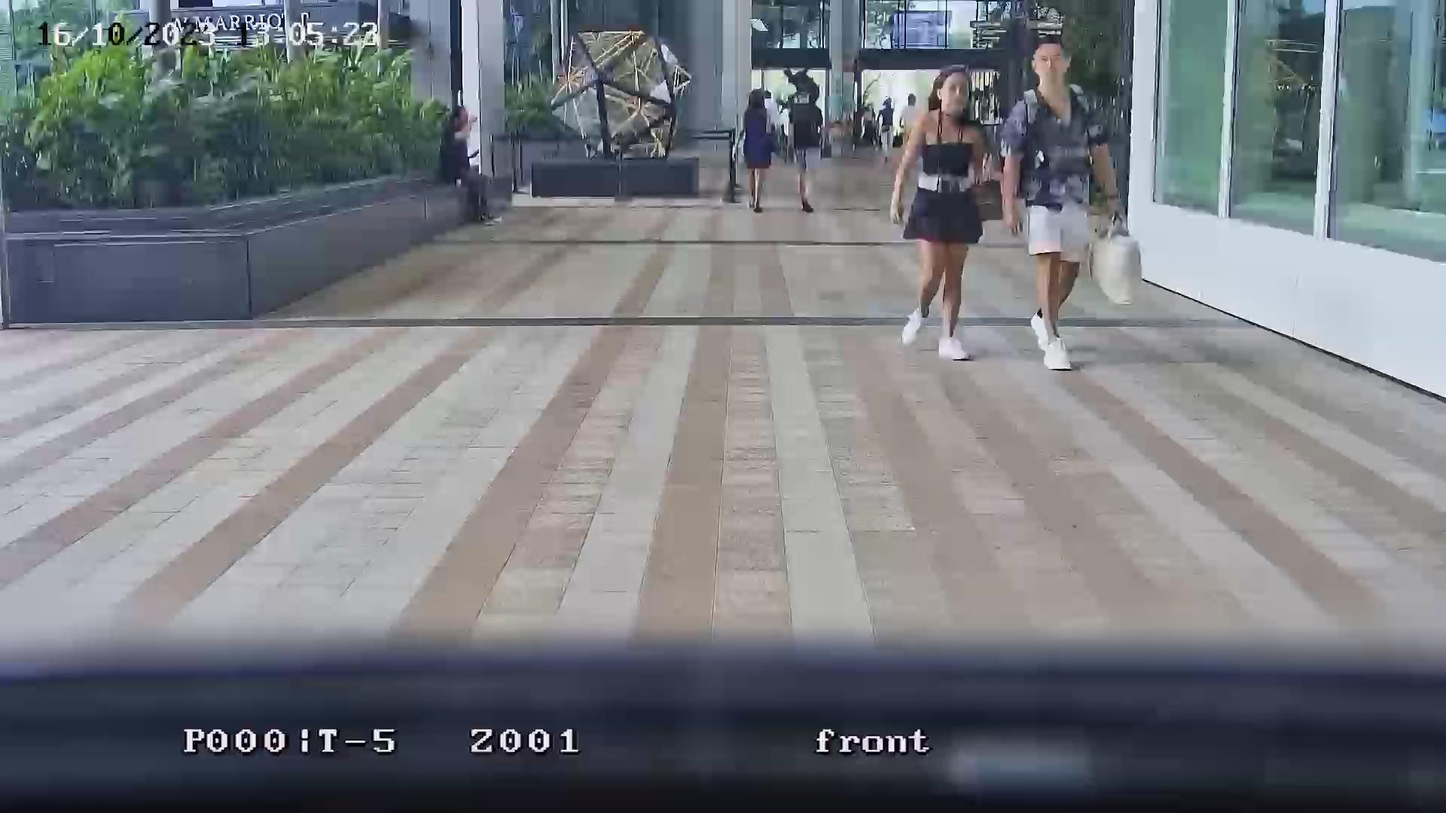person: (999, 37, 1121, 370), (889, 65, 991, 361), (734, 87, 781, 213), (787, 82, 826, 212), (877, 95, 894, 150)
